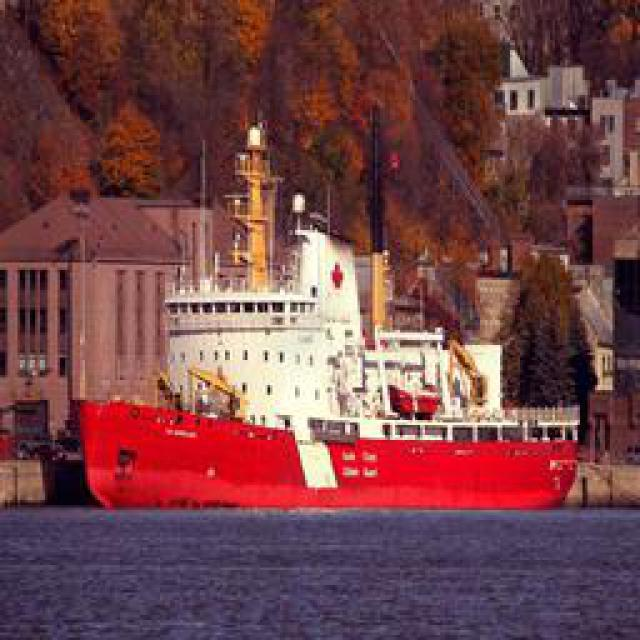Ship: (79, 360, 582, 520)
